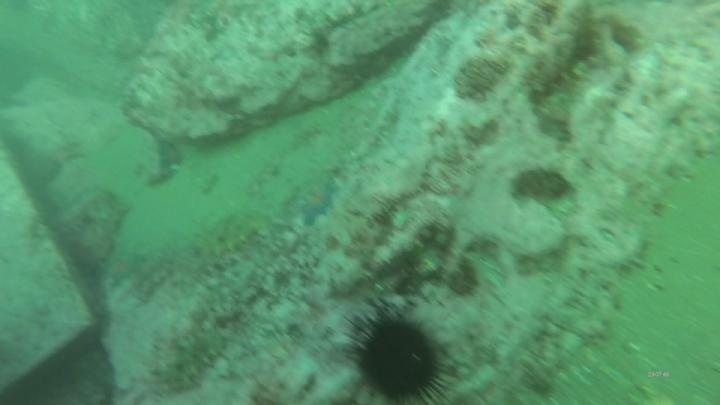echinus: (343, 305, 454, 404)
holothurian: (155, 326, 230, 395), (191, 208, 276, 263)
starfish: (296, 179, 340, 228), (101, 245, 147, 288)
